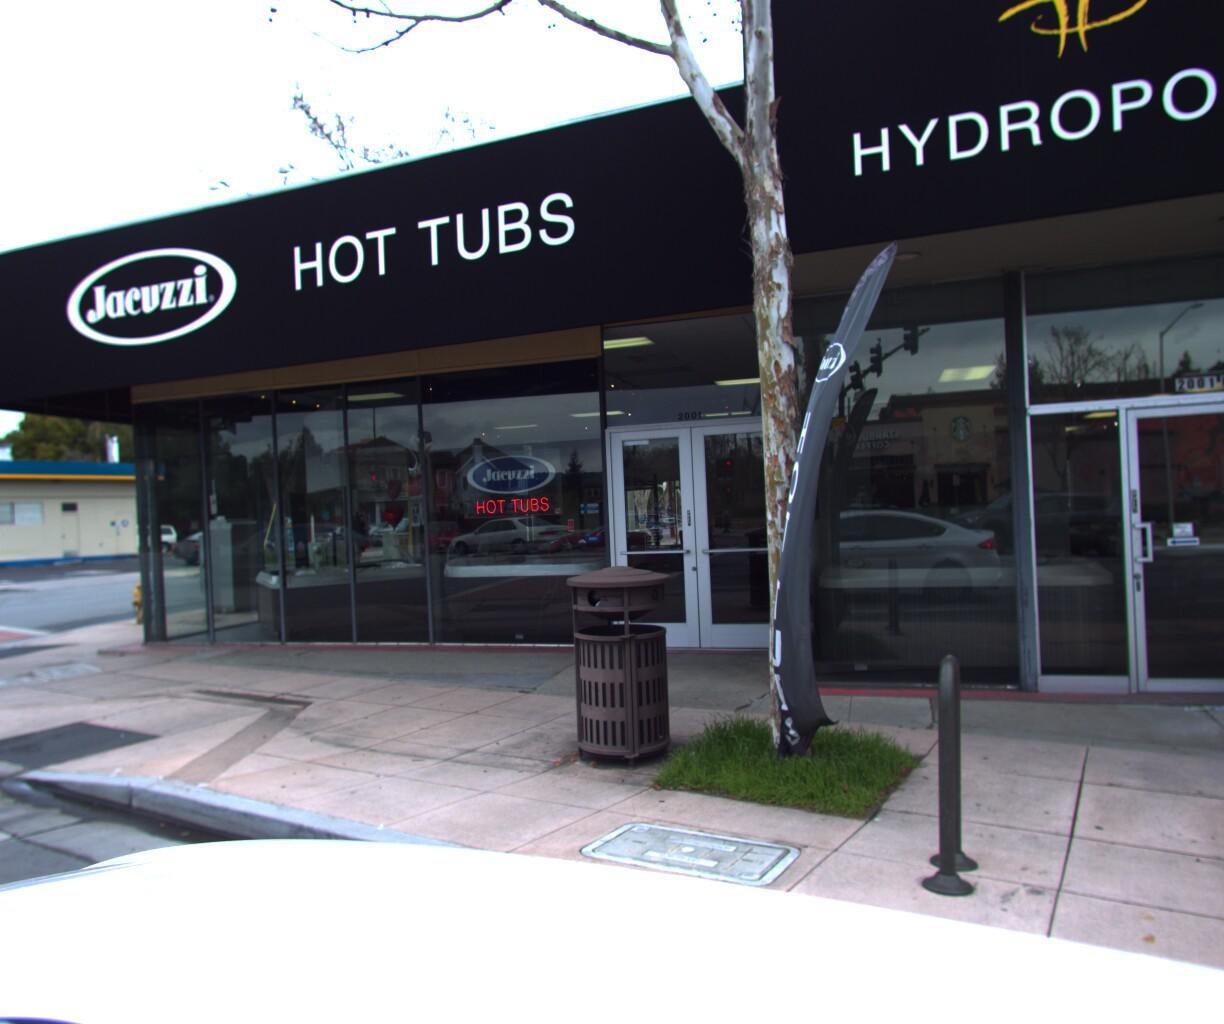car: (164, 524, 281, 566), (88, 519, 184, 560)
